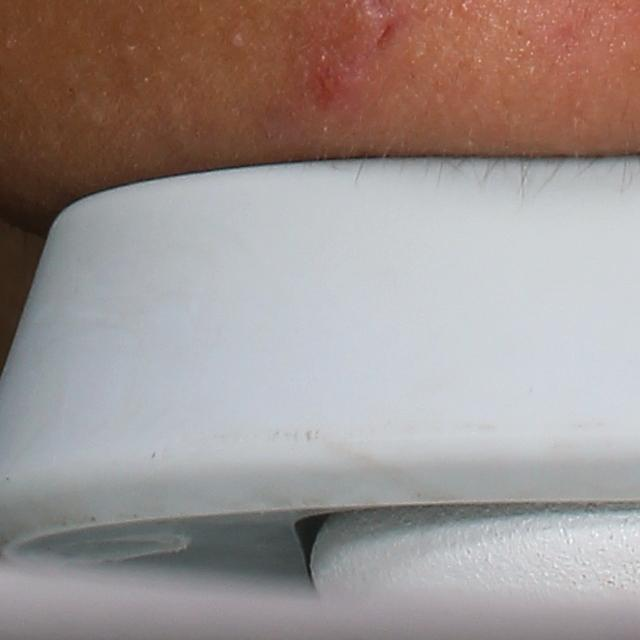comedo: (223, 27, 253, 61)
papule: (297, 48, 350, 116)
